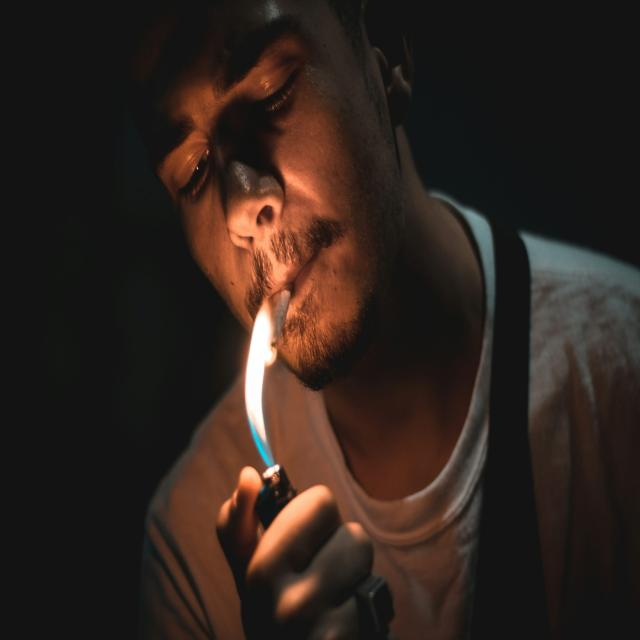fire: (246, 294, 278, 466)
